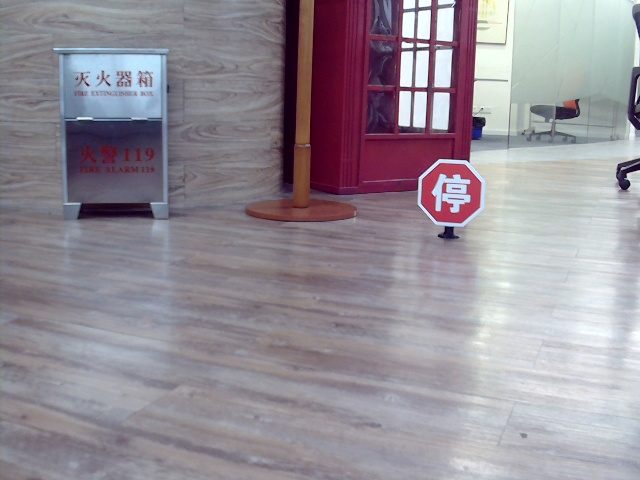stop: (429, 171, 469, 213)
